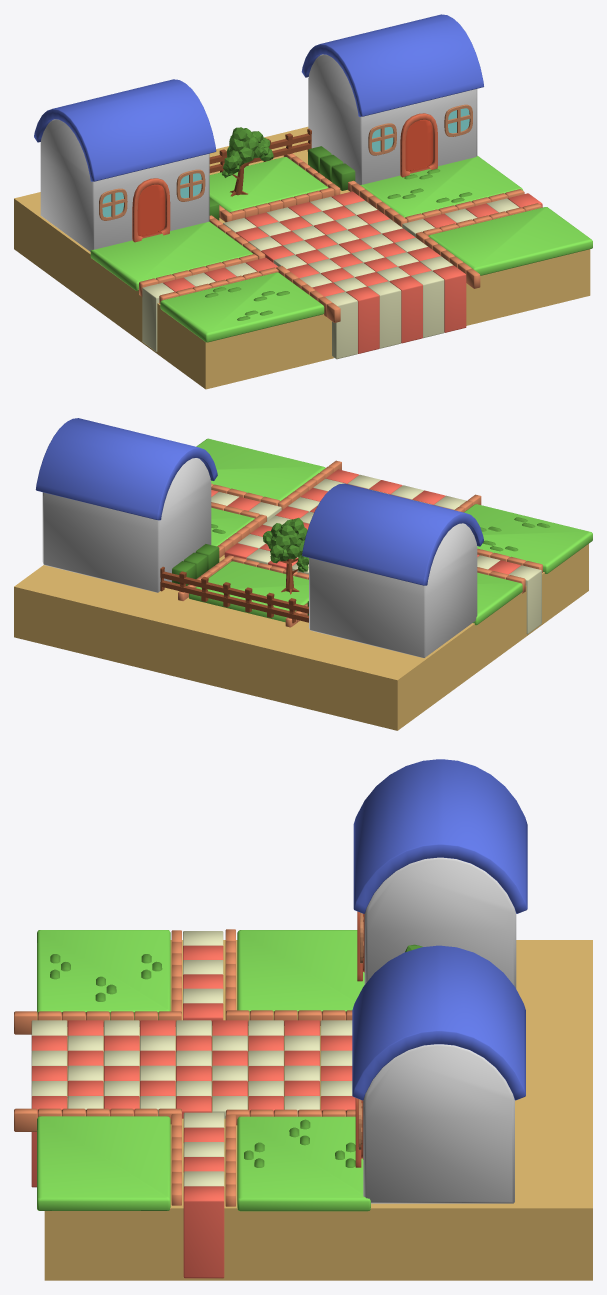
File: Girl Bg.fbx
The picture shows the model from 3 angles, top to bottom: view 1: azimuth 30°, elevation 25°; view 2: azimuth 150°, elevation 25°; view 3: azimuth 270°, elevation 25°; orthographic projection. The views are drawn at different scales.
Visible parts, largest first — view 1: Cube, Cube.003, Cube.005, Cube.002, Cube.004, Plane.006, Plane.007, Cube.006, Plane.004, Plane.005, Cube.024, Cube.025 (+31 smaller); view 2: Cube, Cube.002, Cube.004, Cube.003, Cube.005, Plane.006, Plane.007, Cube.006, Plane.013, Cube.001, _6_tree, Plane.004 (+8 smaller); view 3: Cube, Cube.004, Cube.003, Cube.005, Cube.002, Plane.007, Plane.005, Plane.006, Cube.006, Plane.004, Cube.029, Cube.025 (+22 smaller).
Part boxes in pixels (bbox=[...]): Cube: bbox=[14, 126, 590, 389]; Cube.003: bbox=[34, 79, 216, 181]; Cube.005: bbox=[301, 14, 483, 116]; Cube.002: bbox=[40, 119, 209, 251]; Cube.004: bbox=[308, 54, 477, 184]; Plane.006: bbox=[160, 272, 324, 342]; Plane.007: bbox=[428, 207, 592, 275]; Cube.006: bbox=[139, 180, 541, 322]; Plane.004: bbox=[90, 221, 252, 290]; Plane.005: bbox=[360, 156, 523, 217]; Cube.024: bbox=[325, 270, 444, 359]; Cube.025: bbox=[346, 265, 466, 353]; Cube: bbox=[14, 544, 588, 730]; Cube.002: bbox=[309, 523, 477, 657]; Cube.004: bbox=[42, 458, 211, 592]; Cube.003: bbox=[302, 483, 483, 585]; Cube.005: bbox=[35, 418, 217, 520]; Plane.006: bbox=[464, 504, 592, 573]; Plane.007: bbox=[196, 438, 325, 500]; Cube.006: bbox=[211, 460, 542, 593]; Plane.013: bbox=[189, 561, 308, 622]; Cube.001: bbox=[160, 566, 308, 623]; _6_tree: bbox=[263, 517, 308, 572]; Plane.004: bbox=[473, 572, 522, 625]; Cube: bbox=[44, 940, 592, 1280]; Cube.004: bbox=[363, 1044, 514, 1203]; Cube.003: bbox=[353, 759, 527, 913]; Cube.005: bbox=[352, 945, 525, 1100]; Cube.002: bbox=[364, 857, 516, 988]; Plane.007: bbox=[37, 1116, 170, 1210]; Plane.005: bbox=[237, 1116, 370, 1211]; Plane.006: bbox=[37, 930, 170, 1019]; Cube.006: bbox=[14, 929, 355, 1206]; Plane.004: bbox=[237, 930, 364, 1019]; Cube.029: bbox=[183, 1127, 224, 1278]; Cube.025: bbox=[31, 1035, 67, 1187].
Size of the model in its own units: 797 by 344 by 718.
